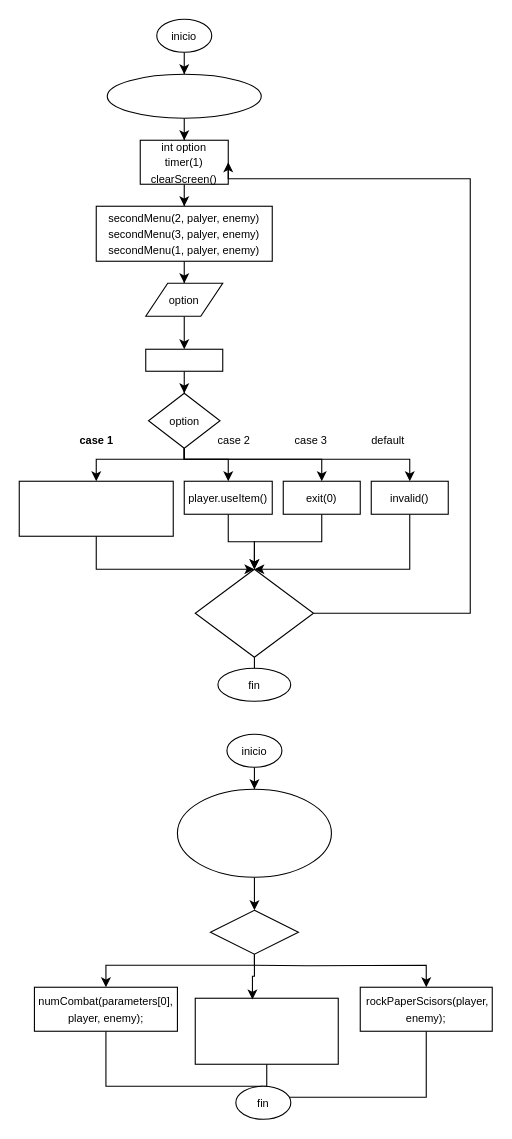
The diagram is 512 pixels wide and 1139 high, and some of its shapes have lost their labels. Here are the shapes that lost their labels. From the top down, the centre of each, then its label:
At point (183, 95): "combatMenu(parameters[], size, player, enemy)".
At point (184, 359): "cinControl()".
At point (95, 508): "playEnemyAttack( enemy.mechanic parameters, size, playerm, enemy".
At point (254, 612): "player.alive() && enemy.alive()".
At point (253, 832): "playEnemyAttack(mecanic, parameters[],size, player, enemy)".
At point (253, 931): "mecanic".
At point (266, 1030): "numsMemo(parameters[0], parameters[1], parameters[2], player, enemy);".
